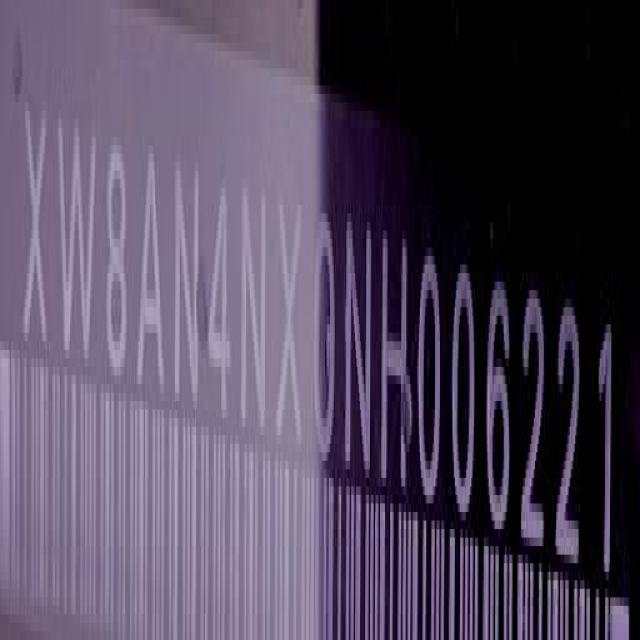0: (450, 251, 479, 528), (418, 237, 444, 508), (312, 208, 338, 453)
1: (598, 310, 618, 588)
2: (519, 282, 548, 560), (556, 292, 584, 567)
4: (208, 166, 234, 430)
6: (484, 269, 512, 547)
8: (107, 133, 130, 387)
A: (136, 145, 166, 405)
H: (379, 225, 410, 504)
N: (345, 203, 376, 482), (176, 150, 208, 420), (238, 175, 268, 442)
W: (57, 105, 98, 379)
X: (22, 85, 52, 365), (278, 187, 306, 456)
